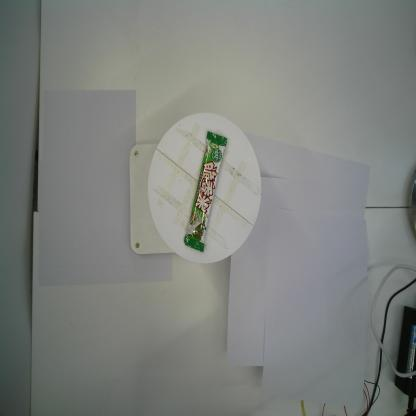Chocolate: (183, 130, 228, 252)
